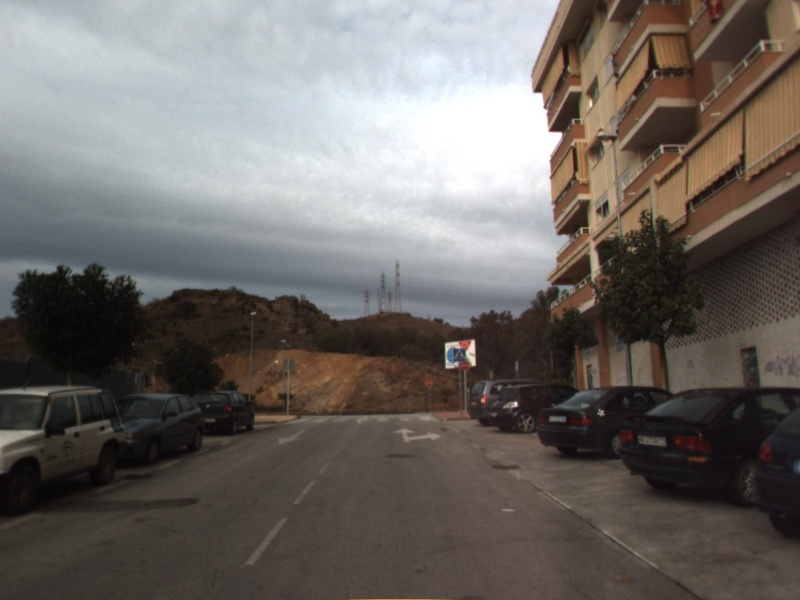STRAIGHT_RIGHT: (392, 425, 443, 445)
